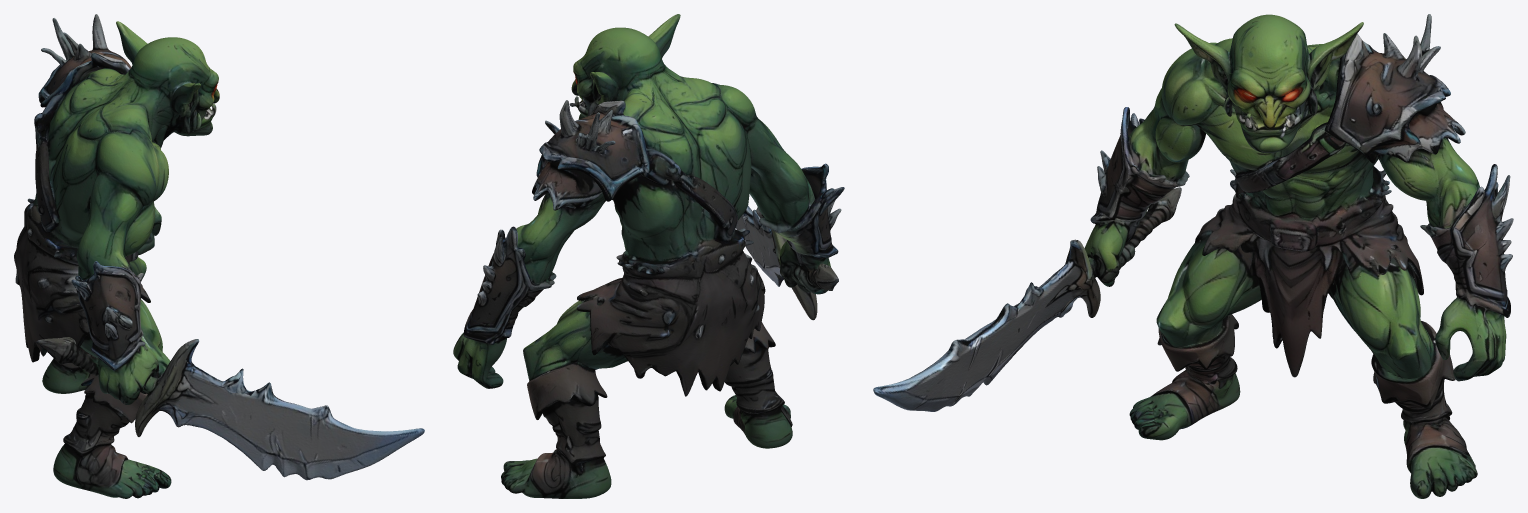
Rendered from orc-warrior.glb.
3 views of the same model, side by side, from view 1: azimuth 30°, elevation 25°; view 2: azimuth 150°, elevation 25°; view 3: azimuth 270°, elevation 25° (orthographic). The views are drawn at different scales.
Visible parts, largest first — view 1: tripo_node_cf2f1fea-b502-46be-82fb-f85e34b8a524; view 2: tripo_node_cf2f1fea-b502-46be-82fb-f85e34b8a524; view 3: tripo_node_cf2f1fea-b502-46be-82fb-f85e34b8a524.
Part boxes in pixels (x1,y1,x2,y2): tripo_node_cf2f1fea-b502-46be-82fb-f85e34b8a524: (14,14,424,498); tripo_node_cf2f1fea-b502-46be-82fb-f85e34b8a524: (453,14,844,498); tripo_node_cf2f1fea-b502-46be-82fb-f85e34b8a524: (873,14,1513,498).
Size of the model in its own units: 0.5272 by 0.7857 by 1.
1 material, 1 textured.
